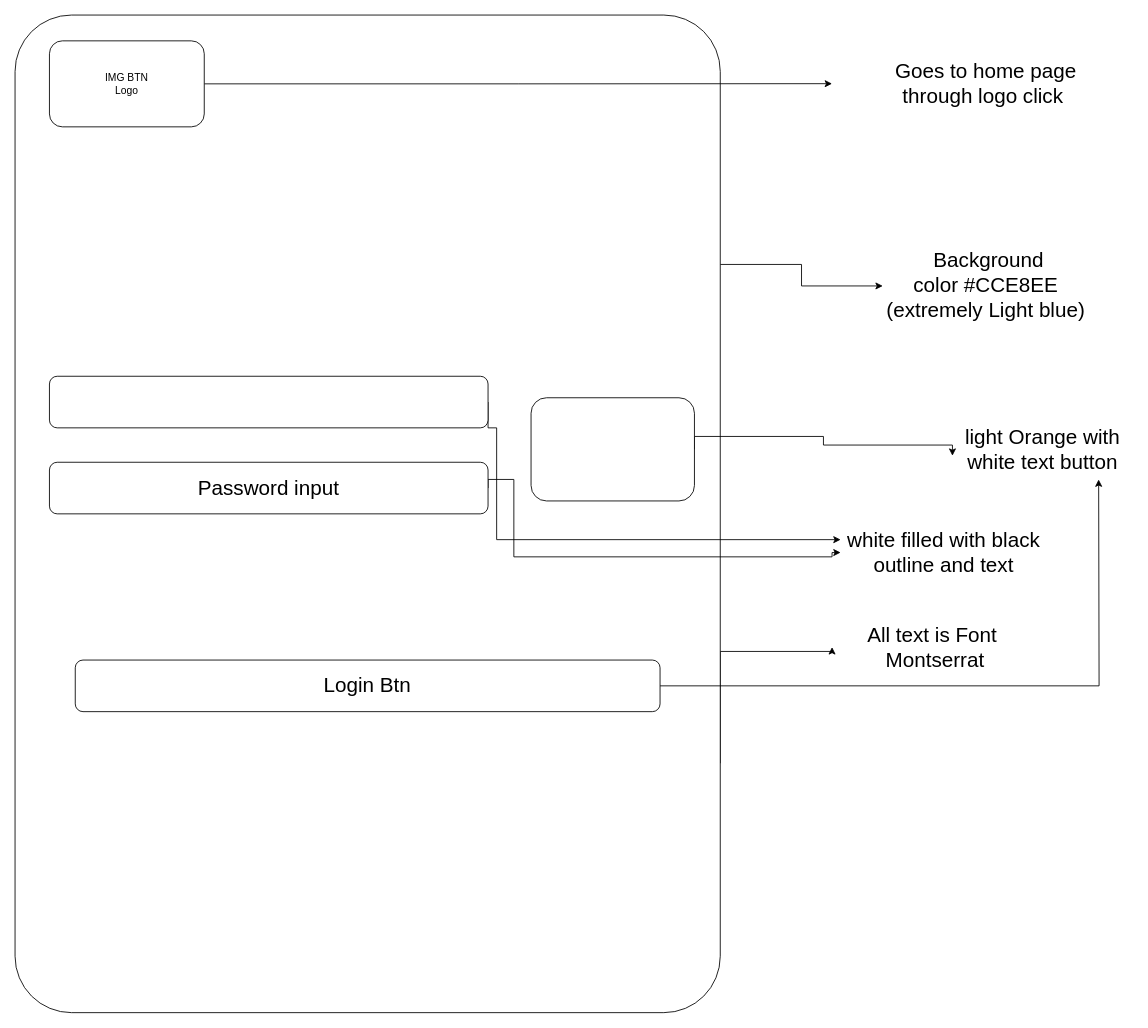
This 1148x1028 diagram has some shape labels left out. Here are the shapes that lost their labels. From the top down, the centre of each, then its label:
At point 268,401: "Email input".
At point 612,449: "Register btn".
